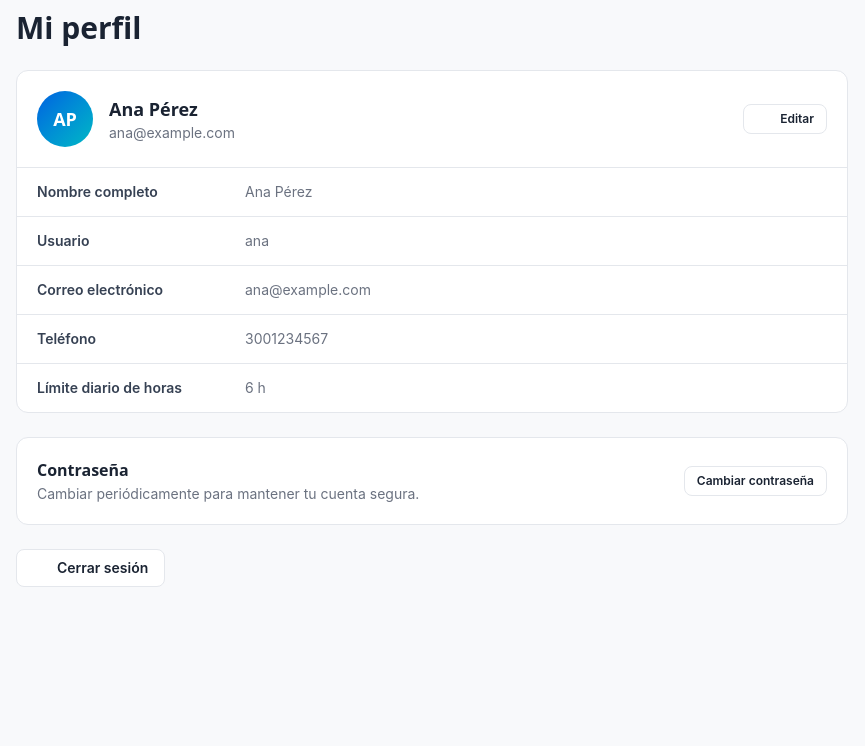
Scenario: ProfilePage › muestra datos del usuario y permite editar y guardar el perfil
Expected: the heading "Ana Pérez" is shown, [109, 97, 198, 121]
Click the button "Editar" at (785, 119), box [743, 104, 827, 134]
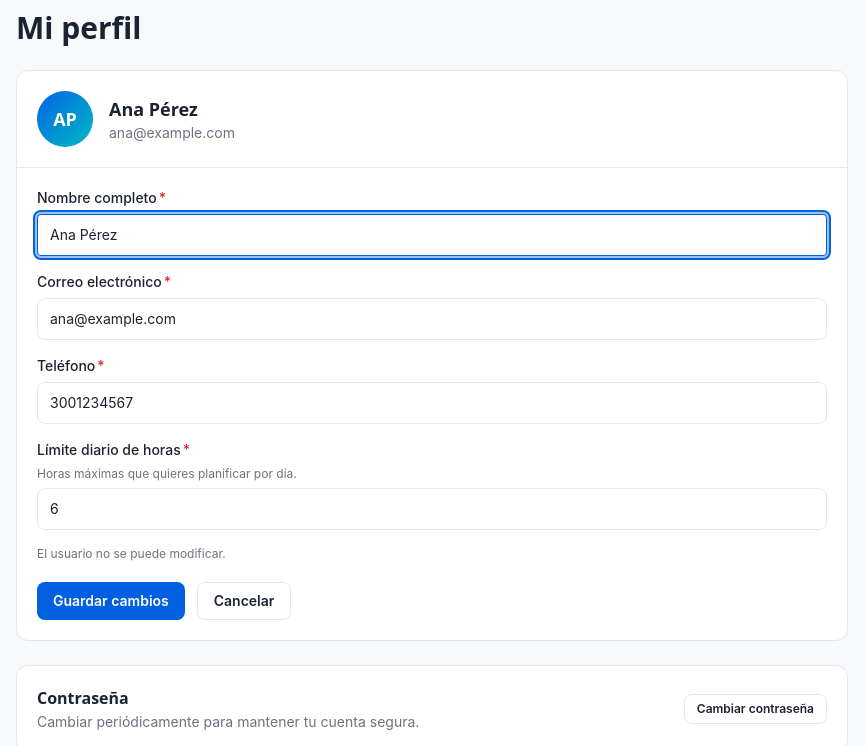
Replace the text in the field labelled "Nombre completo*" with "Ana María Pérez" at (432, 235), box [37, 214, 827, 256]
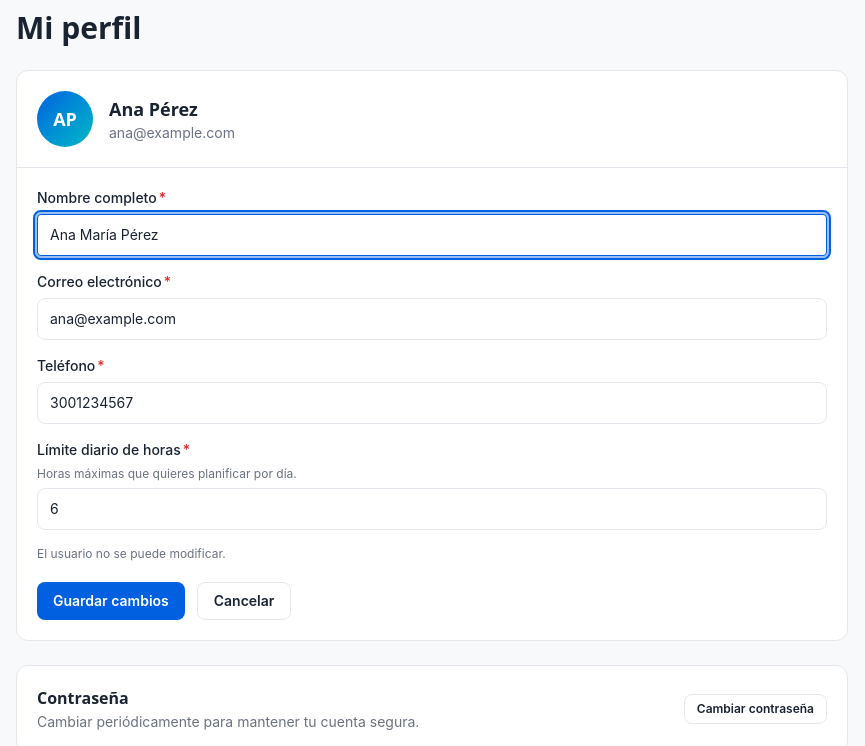
Click the button "Guardar cambios" at (111, 601), box [37, 582, 185, 620]
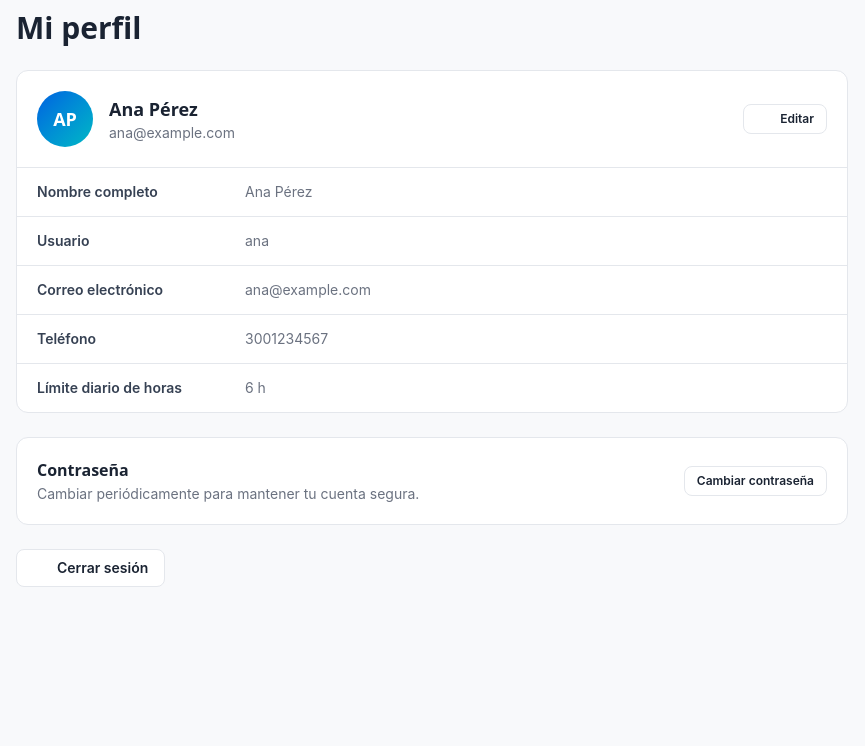
Expected: the button "Guardar cambios" is gone
